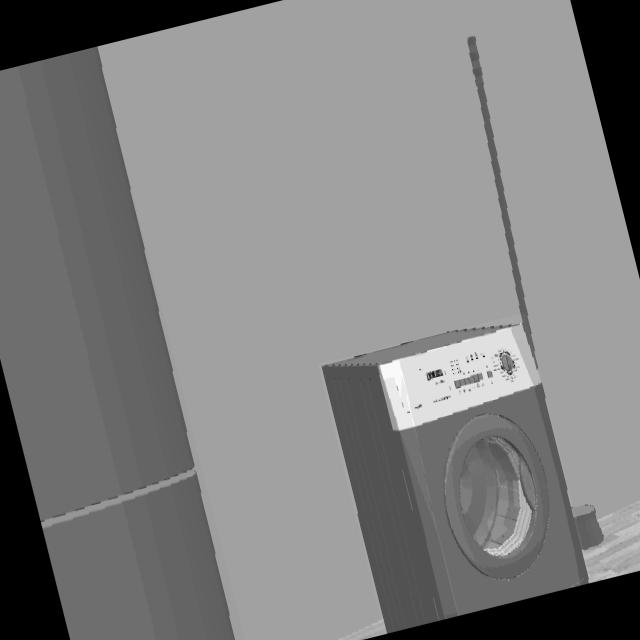fridge: (0, 46, 234, 640)
washbasin: (322, 323, 590, 633)
